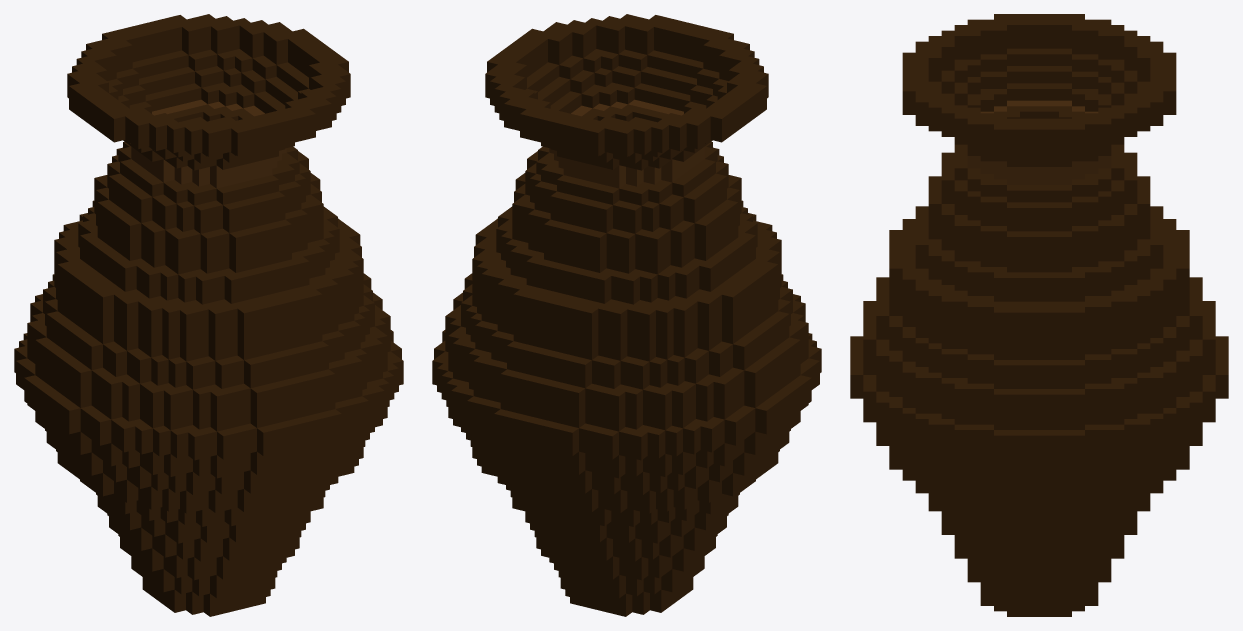
Rendered from Vase cave.obj.
3 views of the same model, side by side, from view 1: azimuth 30°, elevation 25°; view 2: azimuth 150°, elevation 25°; view 3: azimuth 270°, elevation 25° (orthographic).
Visible parts, largest first — view 1: Vase cave; view 2: Vase cave; view 3: Vase cave.
Boxes of the visible parts, x1,y1,x2,y2 form: Vase cave: (14,14,403,616); Vase cave: (432,14,821,616); Vase cave: (850,14,1228,616).
Size of the model in its own units: 29 by 44 by 29.
1 material, 1 textured.
